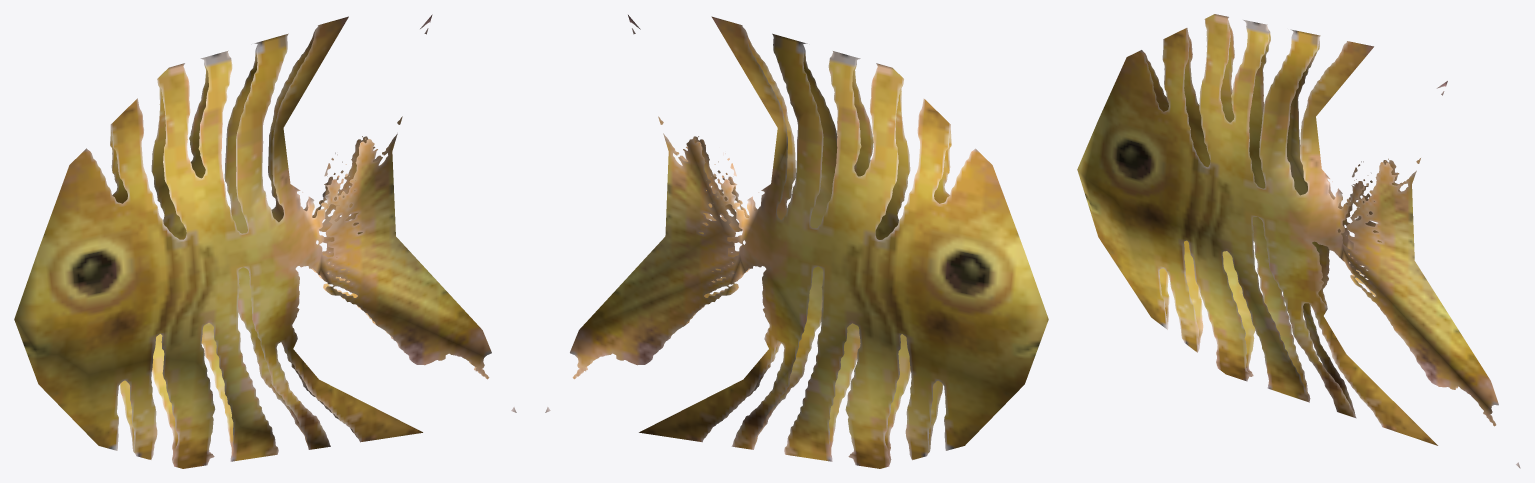
Rendered from edb_fish_striped_tropical.fbx.
3 renders of one model, left to right at view 1: azimuth 30°, elevation 25°; view 2: azimuth 150°, elevation 25°; view 3: azimuth 330°, elevation 25°, orthographic. The views are drawn at different scales.
Parts seen in each view (by area): view 1: mesh_node; view 2: mesh_node; view 3: mesh_node.
Boxes of the visible parts, bbox=[...] form: mesh_node: bbox=[14, 14, 516, 468]; mesh_node: bbox=[545, 15, 1048, 468]; mesh_node: bbox=[1077, 14, 1520, 468].
Bounding box in the file's own units: 0.6988 × 0.5806 × 0.0753.
1 material, 1 textured.
